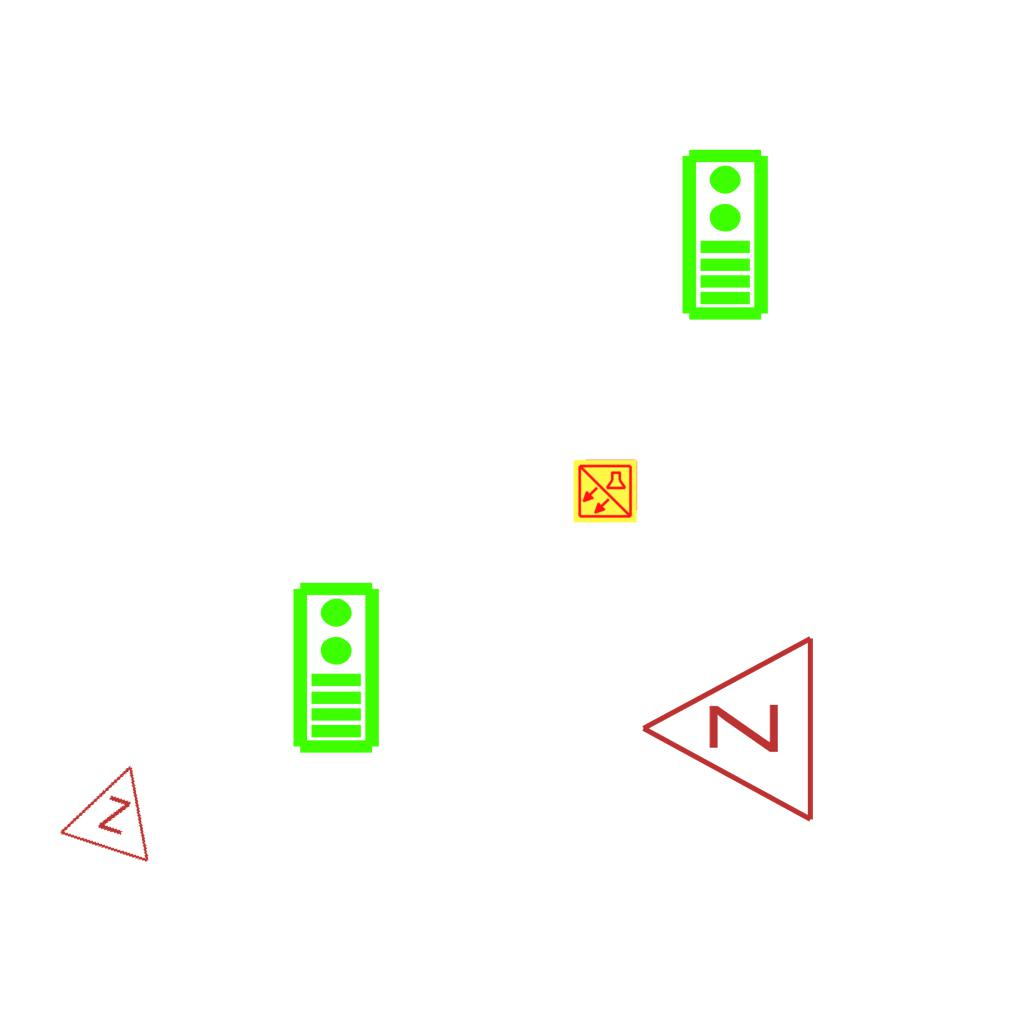Gegensprechanlage_mit_Video: (676, 146, 771, 322), (287, 579, 382, 755)
OKW_Multisensormelder_(Kombination_optischer_Rauch-Kahlenmonoxid_Waerme-Melder): (572, 458, 638, 524)
Zimmersignalleuchte: (628, 633, 828, 829), (53, 744, 179, 870)
